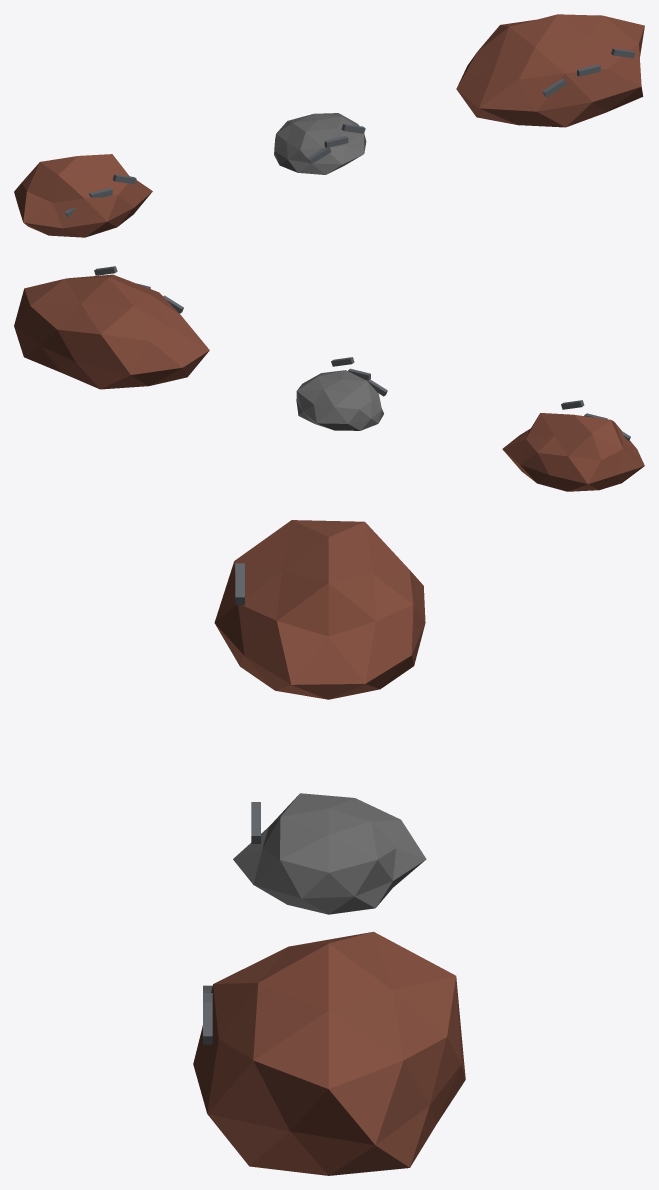
Rendered from batu_besi_v001.glb.
The picture shows the model from 3 angles, top to bottom: view 1: azimuth 30°, elevation 25°; view 2: azimuth 150°, elevation 25°; view 3: azimuth 270°, elevation 25°; orthographic projection. The views are drawn at different scales.
Visible parts, largest first — view 1: Batu_Besi_C, Batu_Besi_A, Batu_Besi_B; view 2: Batu_Besi_C, Batu_Besi_A, Batu_Besi_B; view 3: Batu_Besi_C, Batu_Besi_A, Batu_Besi_B.
Part boxes in pixels (x1,y1,x2,y2): Batu_Besi_C: (456,14,644,127); Batu_Besi_A: (14,154,152,237); Batu_Besi_B: (274,113,366,174); Batu_Besi_C: (14,266,209,389); Batu_Besi_A: (502,400,644,491); Batu_Besi_B: (296,357,387,430); Batu_Besi_C: (193,931,465,1175); Batu_Besi_A: (214,520,425,699); Batu_Besi_B: (233,793,426,914).
Size of the model in its own units: 7.37 by 0.9286 by 1.42.
